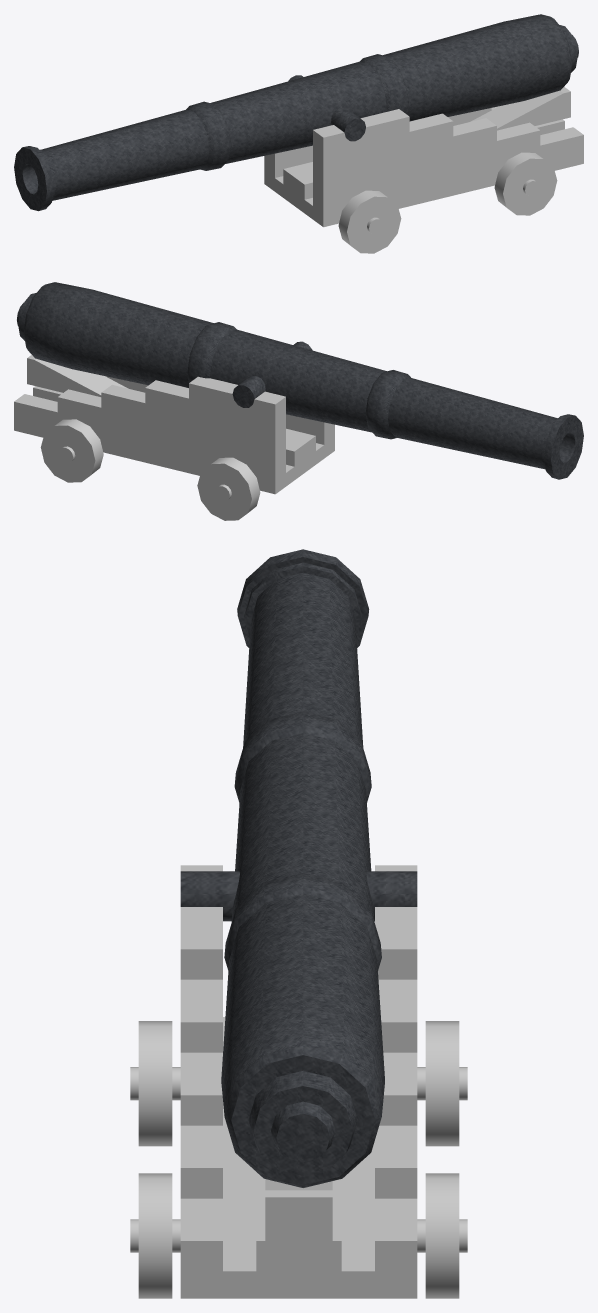
File: 32lb Cannon.dae
3 views of the same model, one above another, from view 1: azimuth 30°, elevation 25°; view 2: azimuth 150°, elevation 25°; view 3: azimuth 270°, elevation 25° (orthographic). The views are drawn at different scales.
Visible parts, largest first — view 1: _32lb_Cannon_Barrel, _32lb_Cannon_Carriage_Side (×2), Cannon_Wheel (×2), Cannon_Aiming_Wedge, _32lb_Cannon_Carriage, Carronade_Lug; view 2: _32lb_Cannon_Barrel, _32lb_Cannon_Carriage_Side (×2), Cannon_Wheel (×2), Cannon_Aiming_Wedge, _32lb_Cannon_Carriage, Carronade_Lug; view 3: _32lb_Cannon_Barrel, _32lb_Cannon_Carriage_Side (×2), Cannon_Wheel (×4), _32lb_Cannon_Carriage, Cannon_Aiming_Wedge, Carronade_Lug (×2), Cannon_Axle (×2).
Part boxes in pixels (x1,y1,x2,y2): _32lb_Cannon_Barrel: [14, 14, 578, 211]; _32lb_Cannon_Carriage_Side (×2): [264, 106, 583, 227]; Cannon_Wheel (×2): [338, 152, 557, 253]; Cannon_Aiming_Wedge: [470, 87, 570, 130]; _32lb_Cannon_Carriage: [275, 119, 564, 219]; Carronade_Lug: [331, 107, 365, 141]; _32lb_Cannon_Barrel: [17, 282, 583, 479]; _32lb_Cannon_Carriage_Side (×2): [14, 376, 334, 494]; Cannon_Wheel (×2): [40, 419, 260, 520]; Cannon_Aiming_Wedge: [27, 355, 127, 396]; _32lb_Cannon_Carriage: [33, 386, 324, 486]; Carronade_Lug: [232, 376, 265, 407]; _32lb_Cannon_Barrel: [221, 549, 384, 1187]; _32lb_Cannon_Carriage_Side (×2): [180, 865, 417, 1298]; Cannon_Wheel (×4): [138, 1021, 459, 1298]; _32lb_Cannon_Carriage: [223, 1017, 374, 1298]; Cannon_Aiming_Wedge: [265, 1179, 332, 1248]; Carronade_Lug (×2): [180, 871, 417, 921]; Cannon_Axle (×2): [130, 1067, 467, 1252].
Size of the model in its own units: 149 by 40.25 by 40.86.
